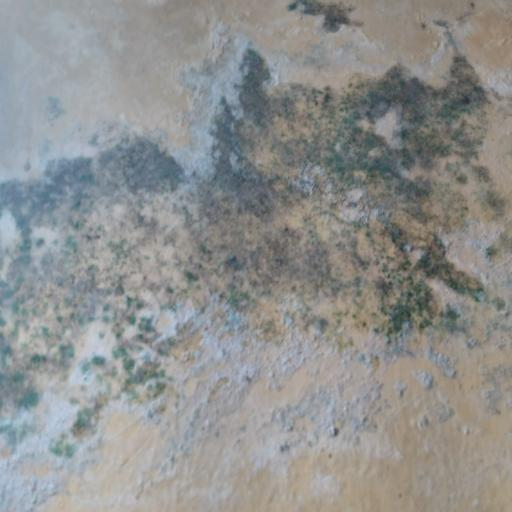algae: (13, 43, 512, 412)
